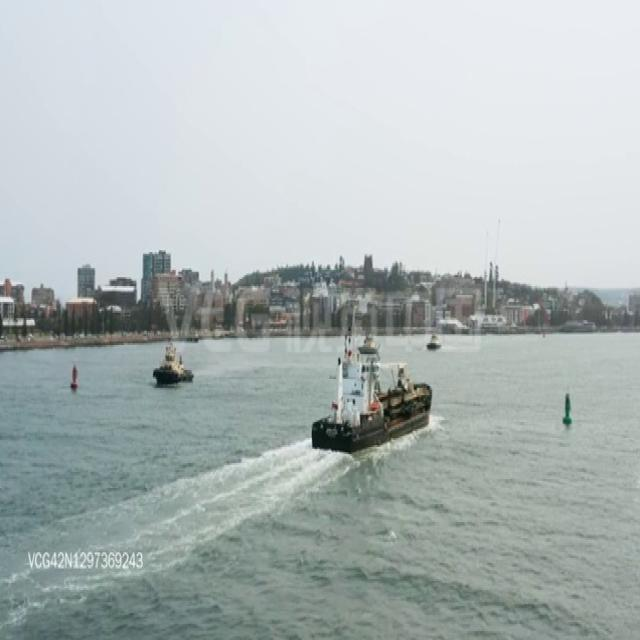houseboat: (309, 332, 431, 457), (153, 338, 197, 384), (359, 334, 381, 354), (425, 329, 443, 351)
